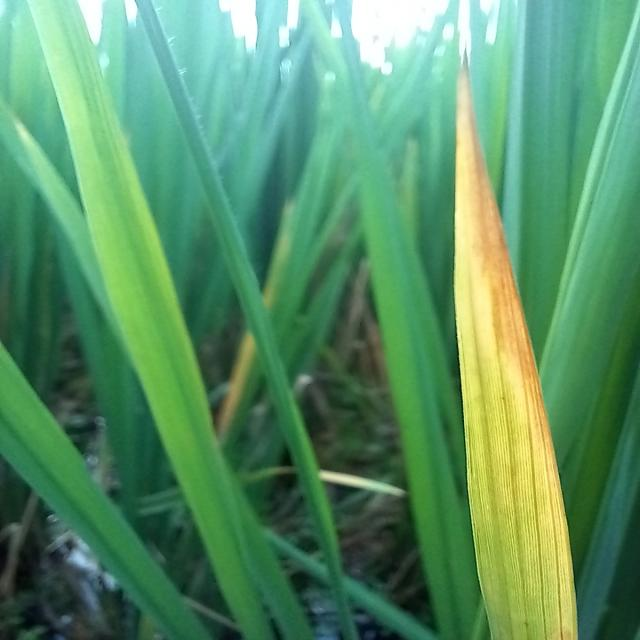Bacterial_Leaf_Blight: (461, 53, 558, 444)
